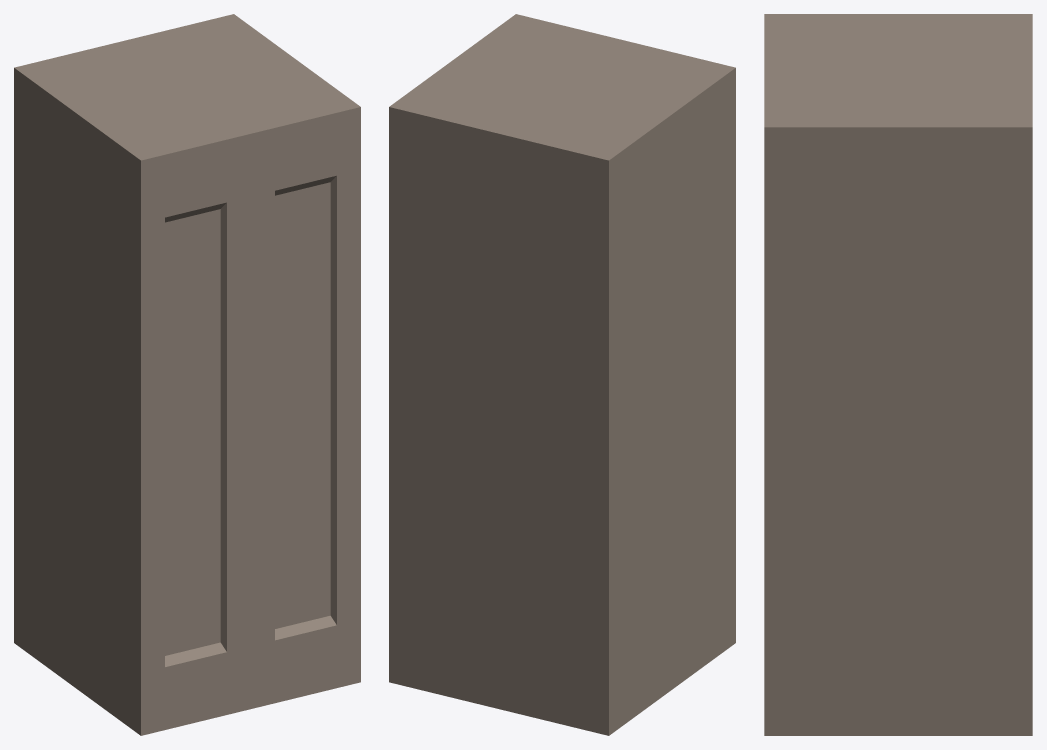
The model's file is WHP-Wall-Cabinet-Double-Door-Shelves_std_001_W12in.glb.
3 views of the same model, side by side, from view 1: azimuth 30°, elevation 25°; view 2: azimuth 150°, elevation 25°; view 3: azimuth 270°, elevation 25° (orthographic). The views are drawn at different scales.
Visible parts, largest first — view 1: WHP-Wall-Cabinet-Double-Door-Shelves.std.001_W12in; view 2: WHP-Wall-Cabinet-Double-Door-Shelves.std.001_W12in; view 3: WHP-Wall-Cabinet-Double-Door-Shelves.std.001_W12in.
Boxes of the visible parts, box(x1,y1,x2,y2) form: WHP-Wall-Cabinet-Double-Door-Shelves.std.001_W12in: box(14, 14, 360, 735); WHP-Wall-Cabinet-Double-Door-Shelves.std.001_W12in: box(389, 14, 735, 735); WHP-Wall-Cabinet-Double-Door-Shelves.std.001_W12in: box(764, 14, 1032, 735).
Bounding box in the file's own units: 0.3048 × 0.762 × 0.3048.
